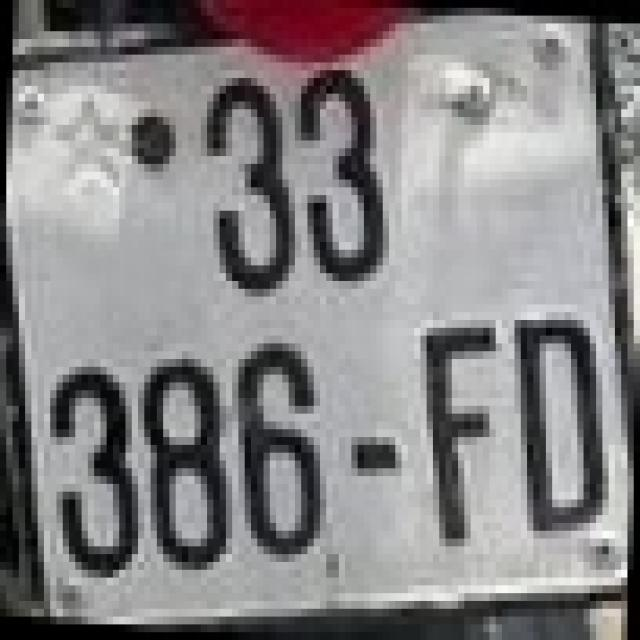3: (295, 62, 395, 281), (201, 70, 295, 297), (44, 359, 138, 578)
6: (232, 336, 326, 562)
8: (144, 351, 232, 570)
D: (508, 312, 609, 539)
F: (414, 313, 502, 546)
